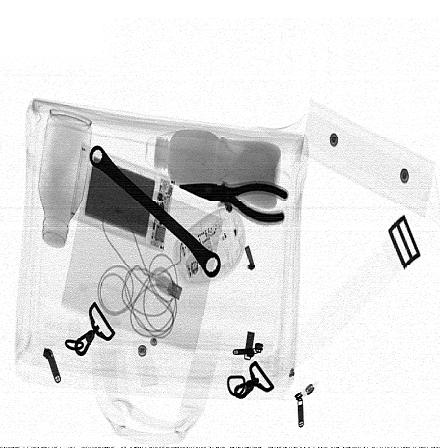Pliers: (179, 181, 288, 225)
Powerbank: (67, 143, 176, 255)
Wrench: (89, 143, 223, 279)
